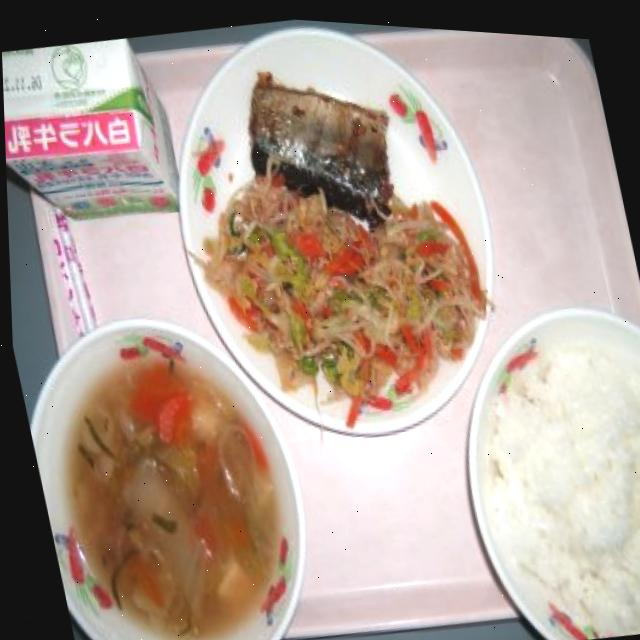熟制海鲜: (181, 17, 417, 226)
米饭主食: (429, 283, 640, 640)
